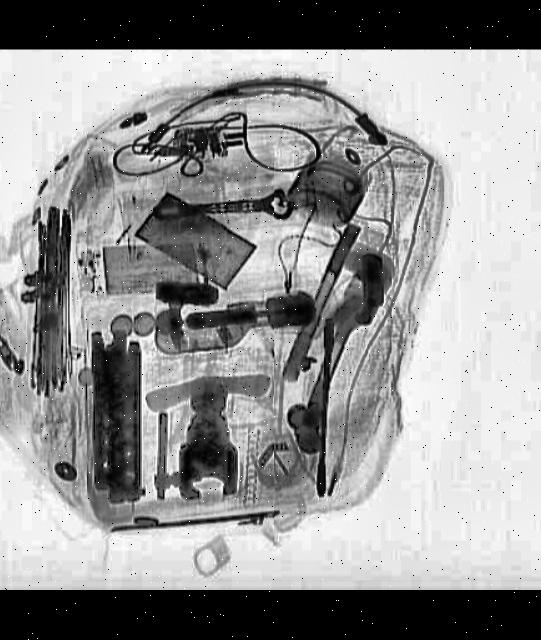Wrench: (154, 190, 298, 230)
